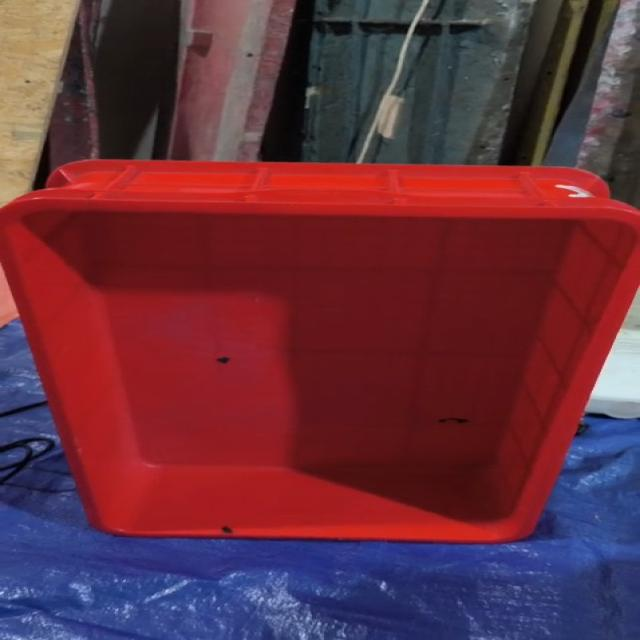red plastic box: (0, 159, 639, 544)
